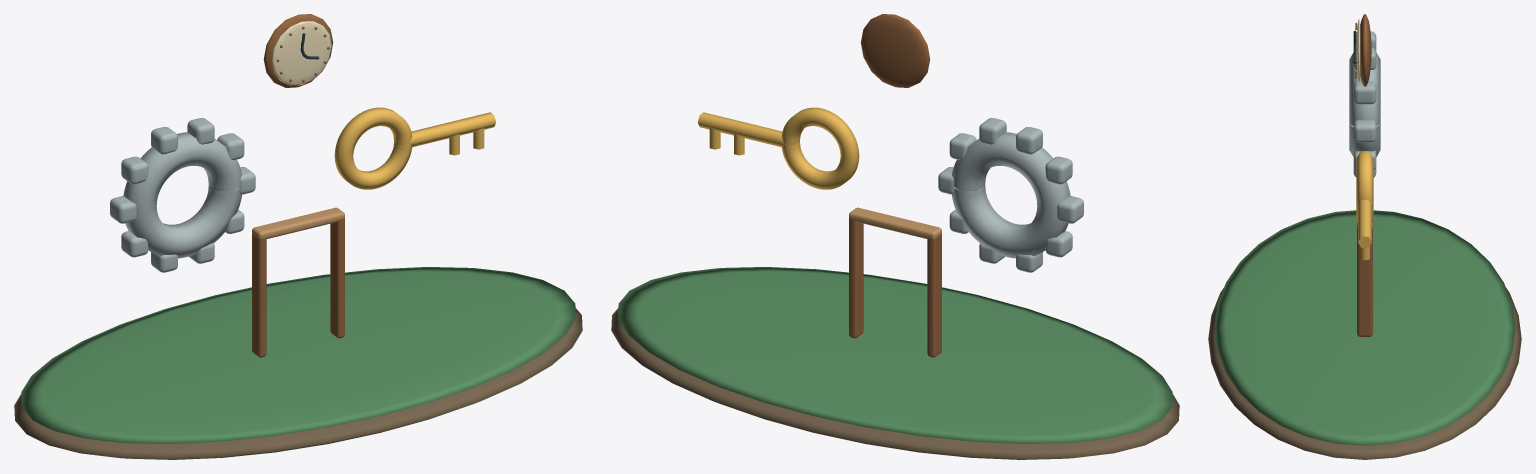
Rendered from complete-first-machine-opportunity.glb.
The picture shows the model from 3 angles, left to right: view 1: azimuth 30°, elevation 25°; view 2: azimuth 150°, elevation 25°; view 3: azimuth 270°, elevation 25°; orthographic projection. The views are drawn at different scales.
Visible parts, largest first — view 1: complete-first-machine-opportunity_surface_01, complete-first-machine-opportunity_surface_02, complete-first-machine-opportunity_surface_00, complete-first-machine-opportunity_surface_03, complete-first-machine-opportunity_surface_04, complete-first-machine-opportunity_surface_06, complete-first-machine-opportunity_surface_05; view 2: complete-first-machine-opportunity_surface_01, complete-first-machine-opportunity_surface_02, complete-first-machine-opportunity_surface_00, complete-first-machine-opportunity_surface_04, complete-first-machine-opportunity_surface_03, complete-first-machine-opportunity_surface_05; view 3: complete-first-machine-opportunity_surface_01, complete-first-machine-opportunity_surface_00, complete-first-machine-opportunity_surface_02, complete-first-machine-opportunity_surface_04, complete-first-machine-opportunity_surface_03.
Boxes of the visible parts, <box> form: complete-first-machine-opportunity_surface_01: <box>21,267,575,443</box>; complete-first-machine-opportunity_surface_02: <box>110,118,255,272</box>; complete-first-machine-opportunity_surface_00: <box>14,308,582,459</box>; complete-first-machine-opportunity_surface_03: <box>334,107,495,189</box>; complete-first-machine-opportunity_surface_04: <box>252,14,344,357</box>; complete-first-machine-opportunity_surface_06: <box>271,21,331,85</box>; complete-first-machine-opportunity_surface_05: <box>252,207,344,239</box>; complete-first-machine-opportunity_surface_01: <box>618,267,1172,443</box>; complete-first-machine-opportunity_surface_02: <box>938,118,1083,272</box>; complete-first-machine-opportunity_surface_00: <box>611,308,1179,459</box>; complete-first-machine-opportunity_surface_04: <box>849,14,941,357</box>; complete-first-machine-opportunity_surface_03: <box>698,107,859,189</box>; complete-first-machine-opportunity_surface_05: <box>849,207,941,239</box>; complete-first-machine-opportunity_surface_01: <box>1214,210,1515,445</box>; complete-first-machine-opportunity_surface_00: <box>1208,288,1521,459</box>; complete-first-machine-opportunity_surface_02: <box>1349,31,1380,177</box>; complete-first-machine-opportunity_surface_04: <box>1355,14,1372,336</box>; complete-first-machine-opportunity_surface_03: <box>1356,151,1373,260</box>.
Bounding box in the file's own units: 4.56 × 2.96 × 2.5.
